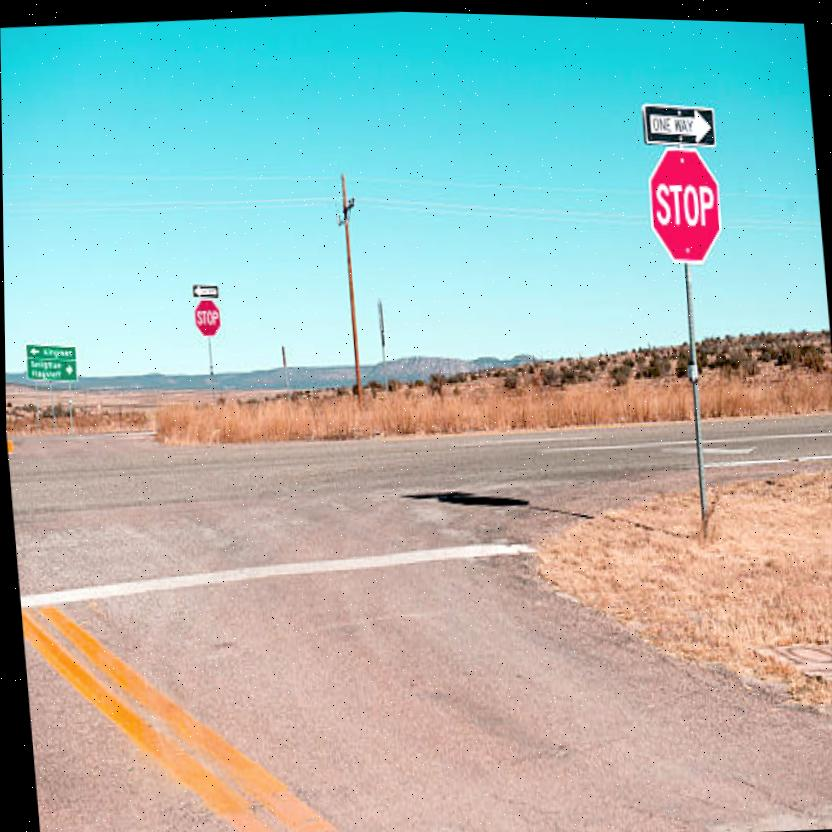Pole: (678, 258, 712, 523), (205, 335, 216, 409)
Sign: (645, 140, 725, 264), (192, 296, 221, 338)
